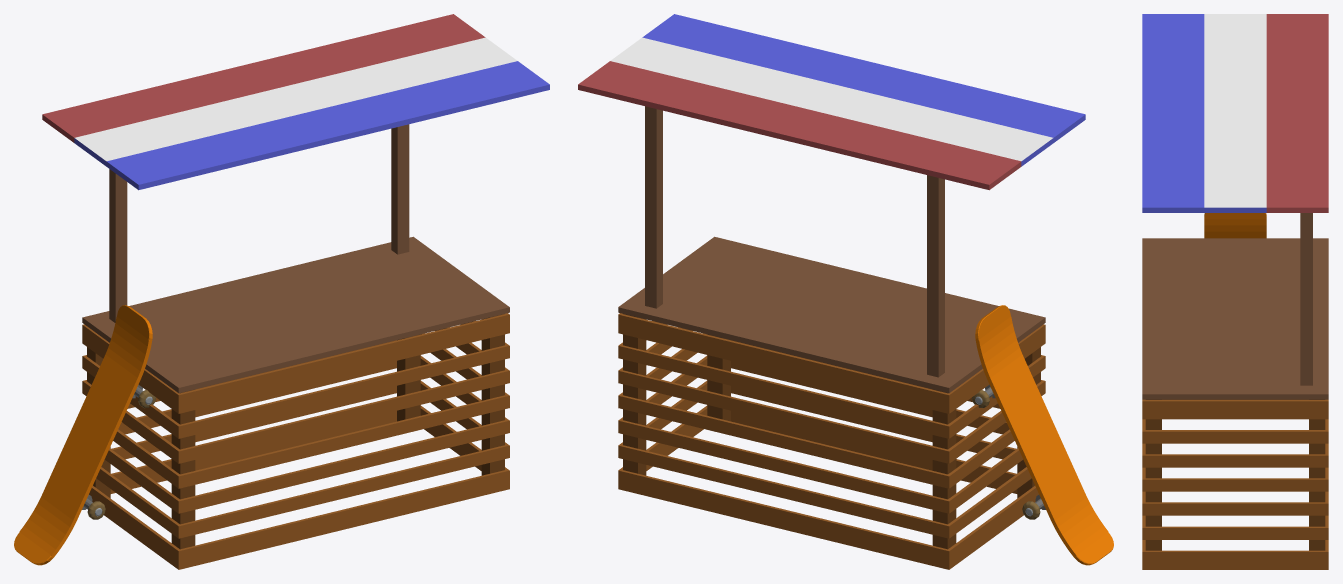
File: stall_board.fbx
3 views of the same model, side by side, from view 1: azimuth 30°, elevation 25°; view 2: azimuth 150°, elevation 25°; view 3: azimuth 270°, elevation 25° (orthographic). The views are drawn at different scales.
Visible parts, largest first — view 1: Cube, Cube.002, Cube.001, Plane.002, Plane.001, Plane, Cylinder; view 2: Cube, Cube.002, Cube.001, Plane.002, Plane.001, Plane, Cylinder; view 3: Cube.002, Cube.001, Cube, Plane, Plane.001, Plane.002.
Part boxes in pixels (<box>): Cube: <box>82,313,509,569</box>; Cube.002: <box>42,14,549,190</box>; Cube.001: <box>82,236,509,393</box>; Plane.002: <box>14,305,152,565</box>; Plane.001: <box>109,124,409,322</box>; Plane: <box>87,314,504,549</box>; Cylinder: <box>82,384,155,519</box>; Cube: <box>618,313,1045,569</box>; Cube.002: <box>578,14,1085,190</box>; Cube.001: <box>618,236,1045,393</box>; Plane.002: <box>975,305,1113,565</box>; Plane.001: <box>645,106,944,377</box>; Plane: <box>623,314,1040,549</box>; Cylinder: <box>972,384,1045,519</box>; Cube.002: <box>1142,14,1328,212</box>; Cube.001: <box>1142,238,1328,399</box>; Cube: <box>1142,399,1328,569</box>; Plane: <box>1145,399,1325,550</box>; Plane.001: <box>1300,213,1312,385</box>; Plane.002: <box>1204,213,1266,238</box>.
Size of the model in its own units: 572 by 452 by 200.
